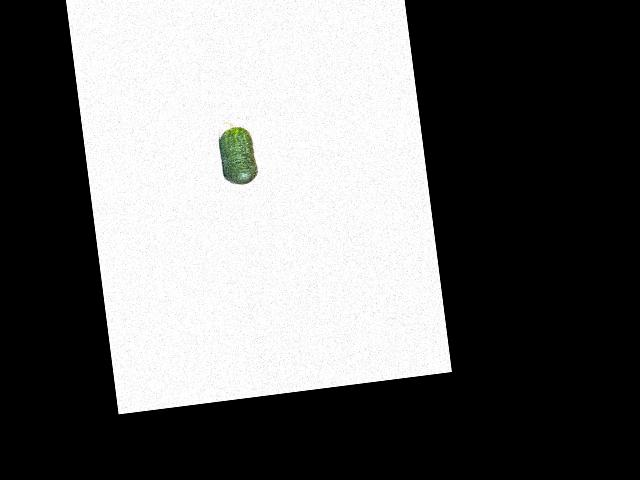cucumber: (216, 118, 259, 186)
